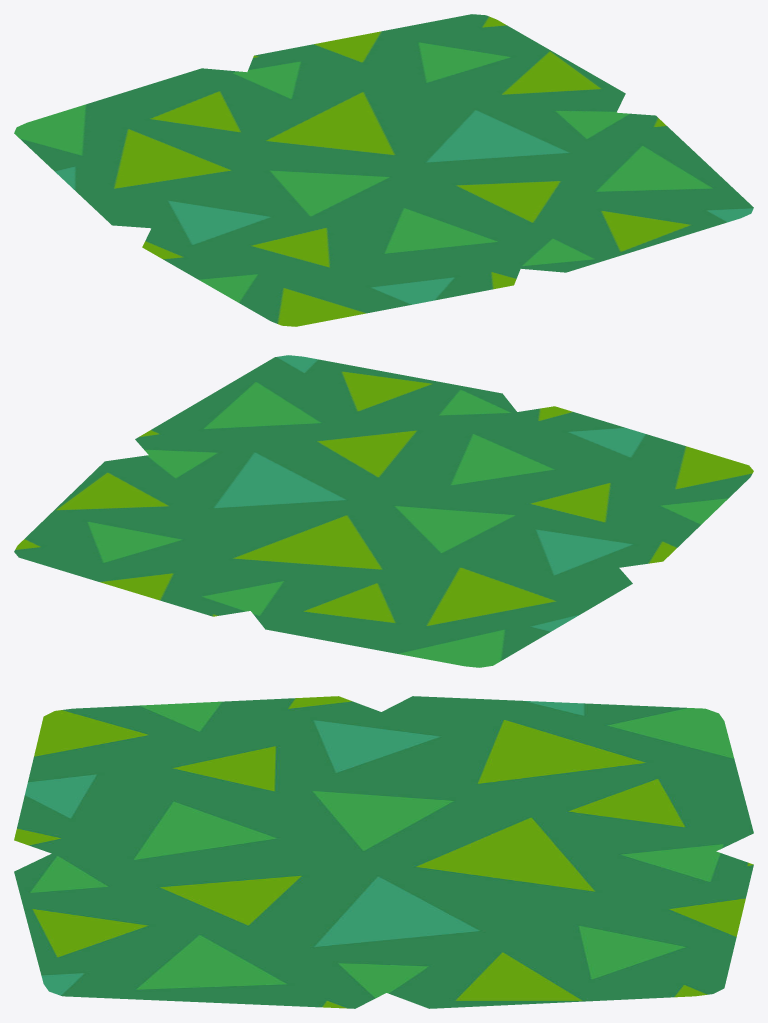
The model's file is Grass Center.fbx.
3 renders of one model, top to bottom at view 1: azimuth 30°, elevation 25°; view 2: azimuth 150°, elevation 25°; view 3: azimuth 270°, elevation 25°, orthographic. The views are drawn at different scales.
Visible parts, largest first — view 1: Grass.Center; view 2: Grass.Center; view 3: Grass.Center.
Part boxes in pixels (<box>): Grass.Center: <box>14,14,753,326</box>; Grass.Center: <box>14,355,753,667</box>; Grass.Center: <box>14,696,753,1008</box>.
Size of the model in its own units: 181 by 2.95e-05 by 181.
